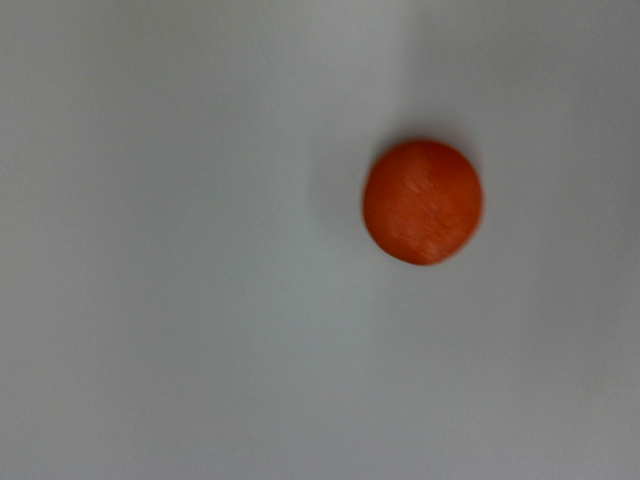orange: (339, 118, 504, 284)
